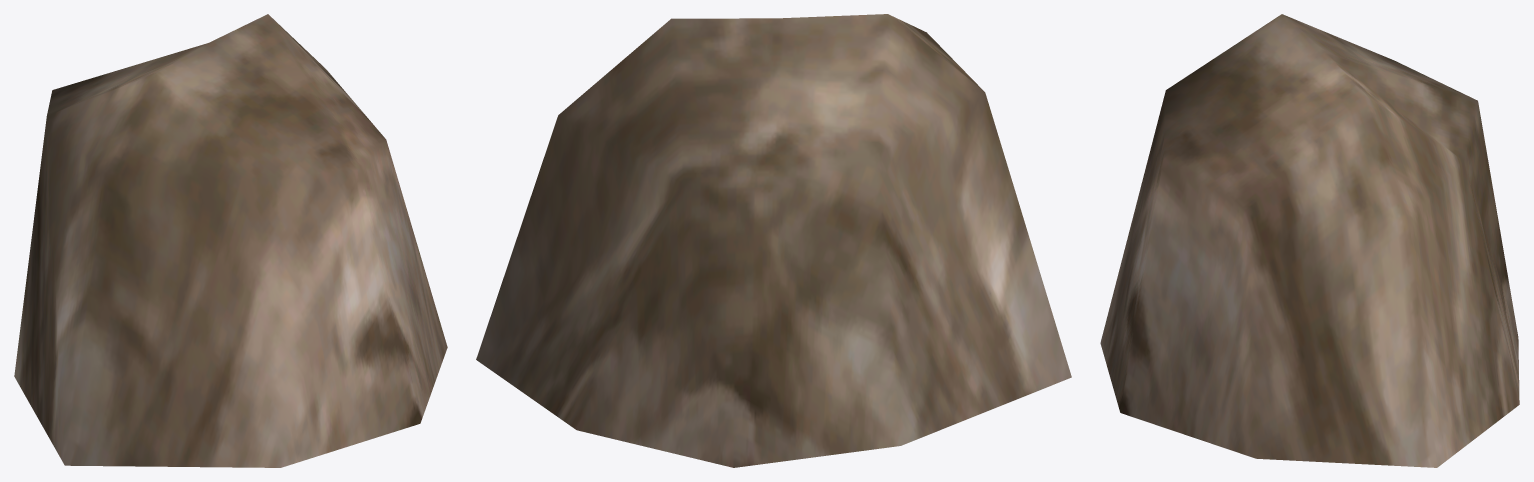
The model's file is OVERHILL_A_01_ROCK57.fbx.
The picture shows the model from 3 angles, left to right: view 1: azimuth 30°, elevation 25°; view 2: azimuth 150°, elevation 25°; view 3: azimuth 270°, elevation 25°; orthographic projection. The views are drawn at different scales.
Visible parts, largest first — view 1: OVERHILL_A_01_ROCK57; view 2: OVERHILL_A_01_ROCK57; view 3: OVERHILL_A_01_ROCK57.
Boxes of the visible parts, x1,y1,x2,y2 form: OVERHILL_A_01_ROCK57: (14, 14, 447, 467); OVERHILL_A_01_ROCK57: (476, 14, 1071, 467); OVERHILL_A_01_ROCK57: (1100, 14, 1519, 467).
Size of the model in its own units: 4145 by 3067 by 3690.
1 material, 1 textured.
